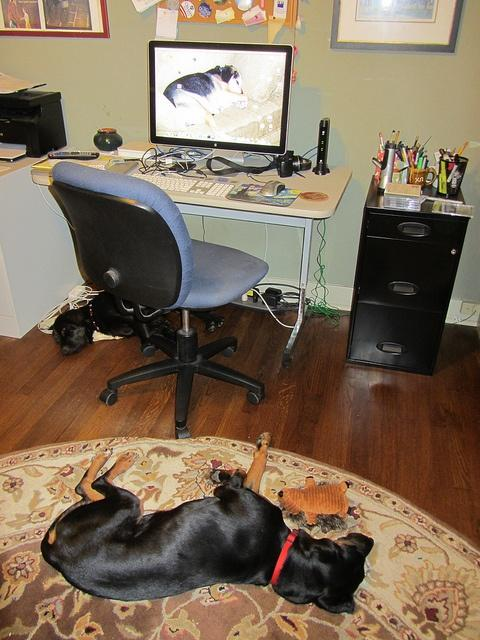AIO PC-Monitor-TV: (147, 39, 292, 158)
Filing Cabinet: (342, 206, 468, 376)
Kursi: (49, 160, 265, 438)
Meja: (29, 139, 353, 219)
Printer: (0, 82, 66, 161)
